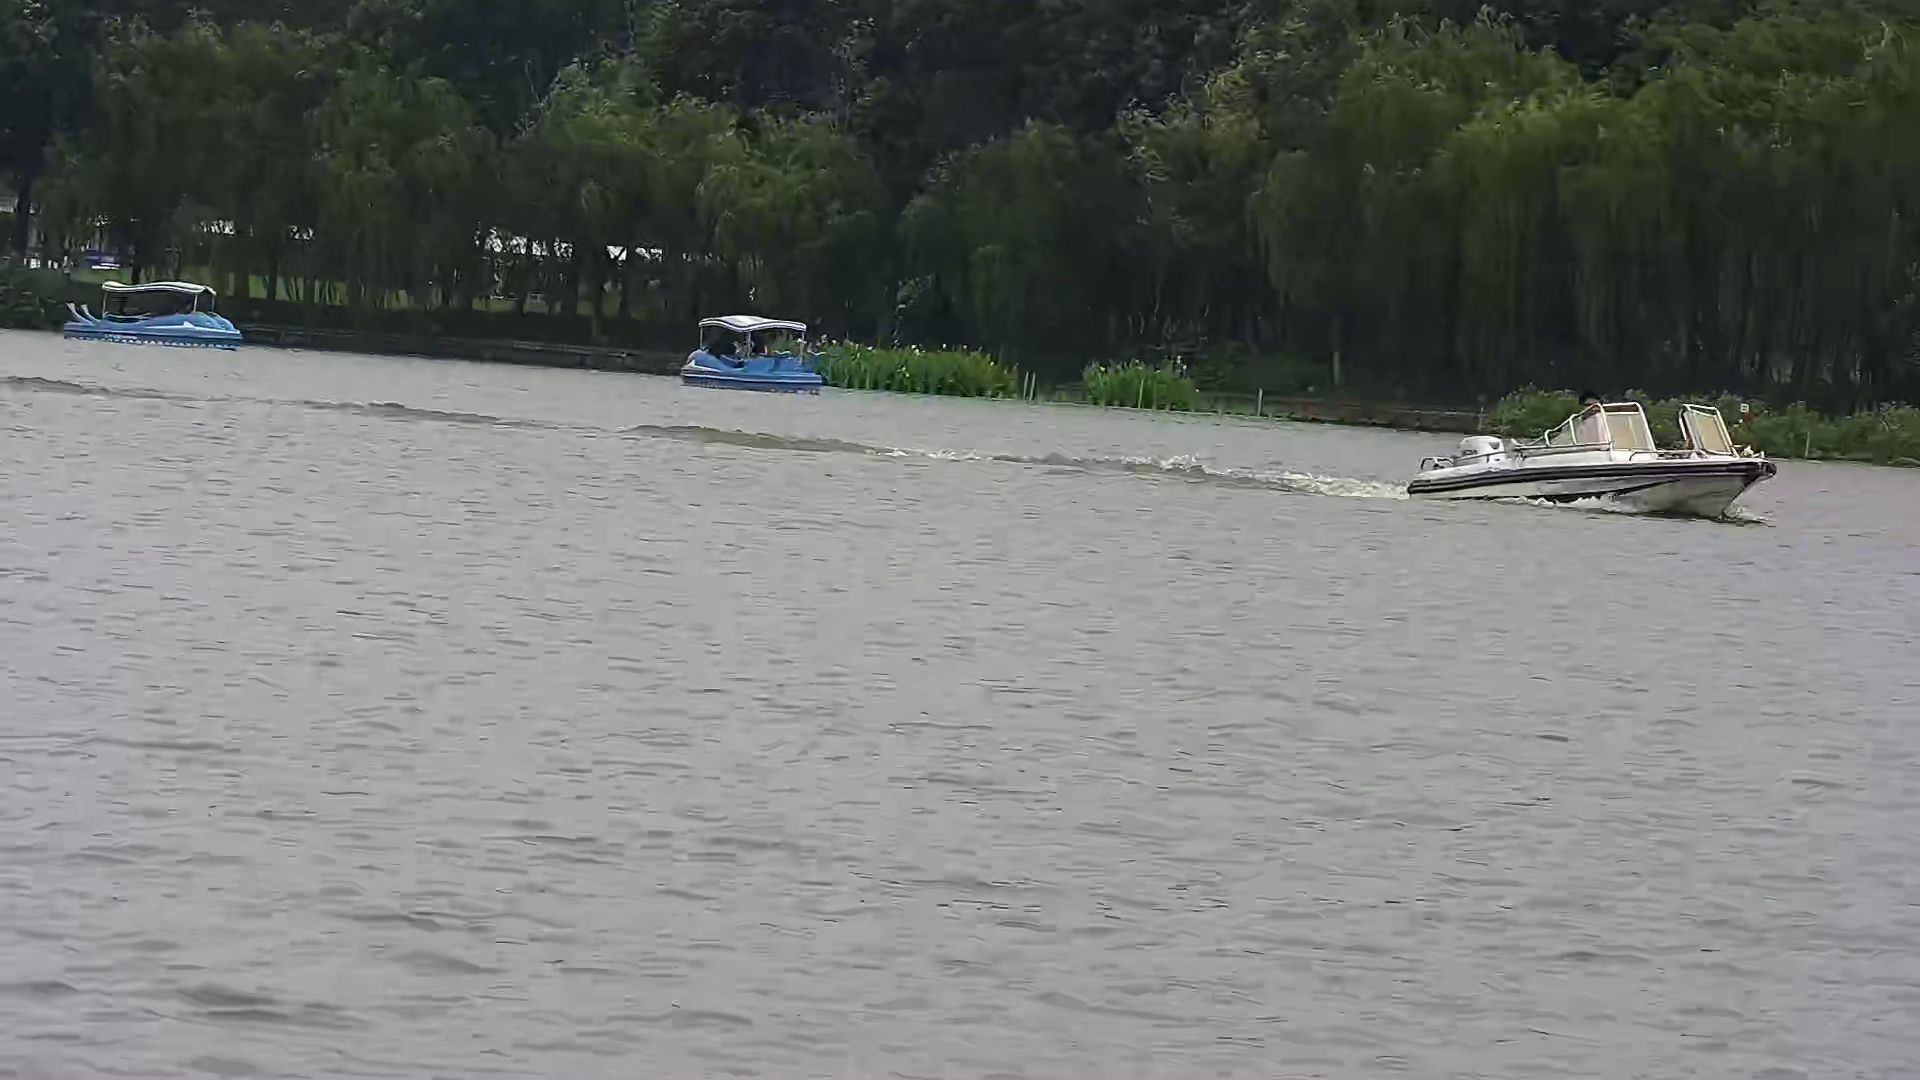boat: (1408, 393, 1779, 527), (57, 280, 243, 349), (680, 306, 825, 392)
